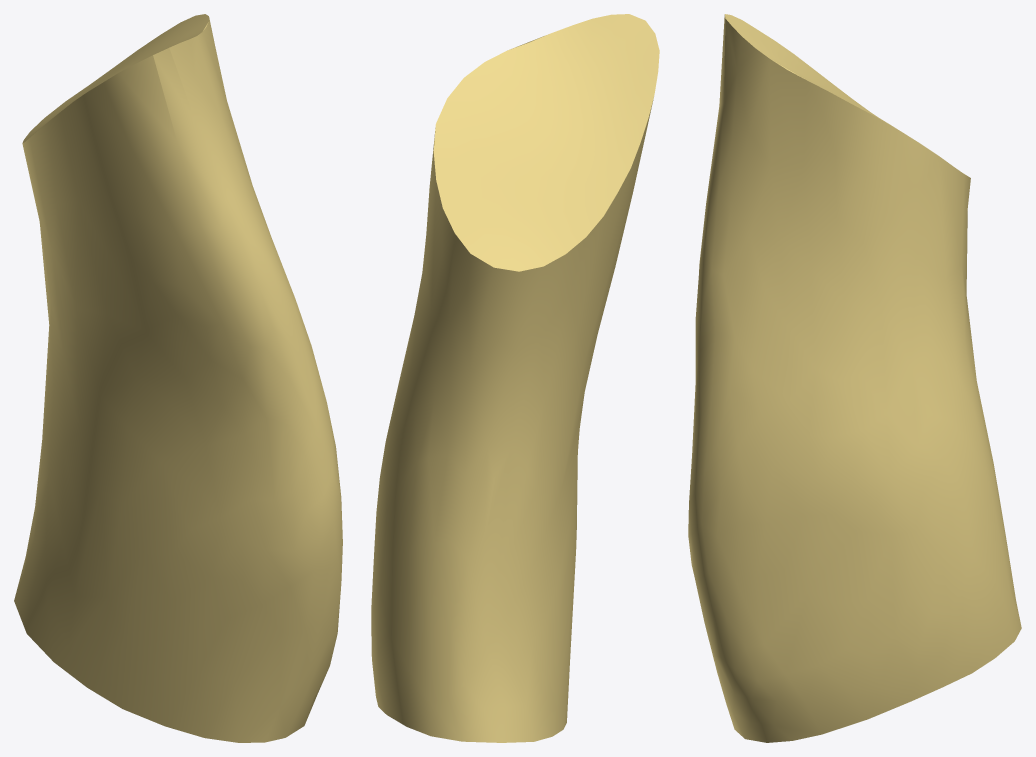
Rendered from fma326189_mm2679.glb.
3 views of the same model, side by side, from view 1: azimuth 30°, elevation 25°; view 2: azimuth 150°, elevation 25°; view 3: azimuth 270°, elevation 25° (orthographic). The views are drawn at different scales.
Parts seen in each view (by area): view 1: FMA326189_MM2679; view 2: FMA326189_MM2679; view 3: FMA326189_MM2679.
Boxes of the visible parts, <box> form: FMA326189_MM2679: <box>14,14,342,742</box>; FMA326189_MM2679: <box>371,14,659,742</box>; FMA326189_MM2679: <box>688,14,1021,742</box>.
Bounding box in the file's own units: 0.0033 × 0.00926 × 0.00426.
